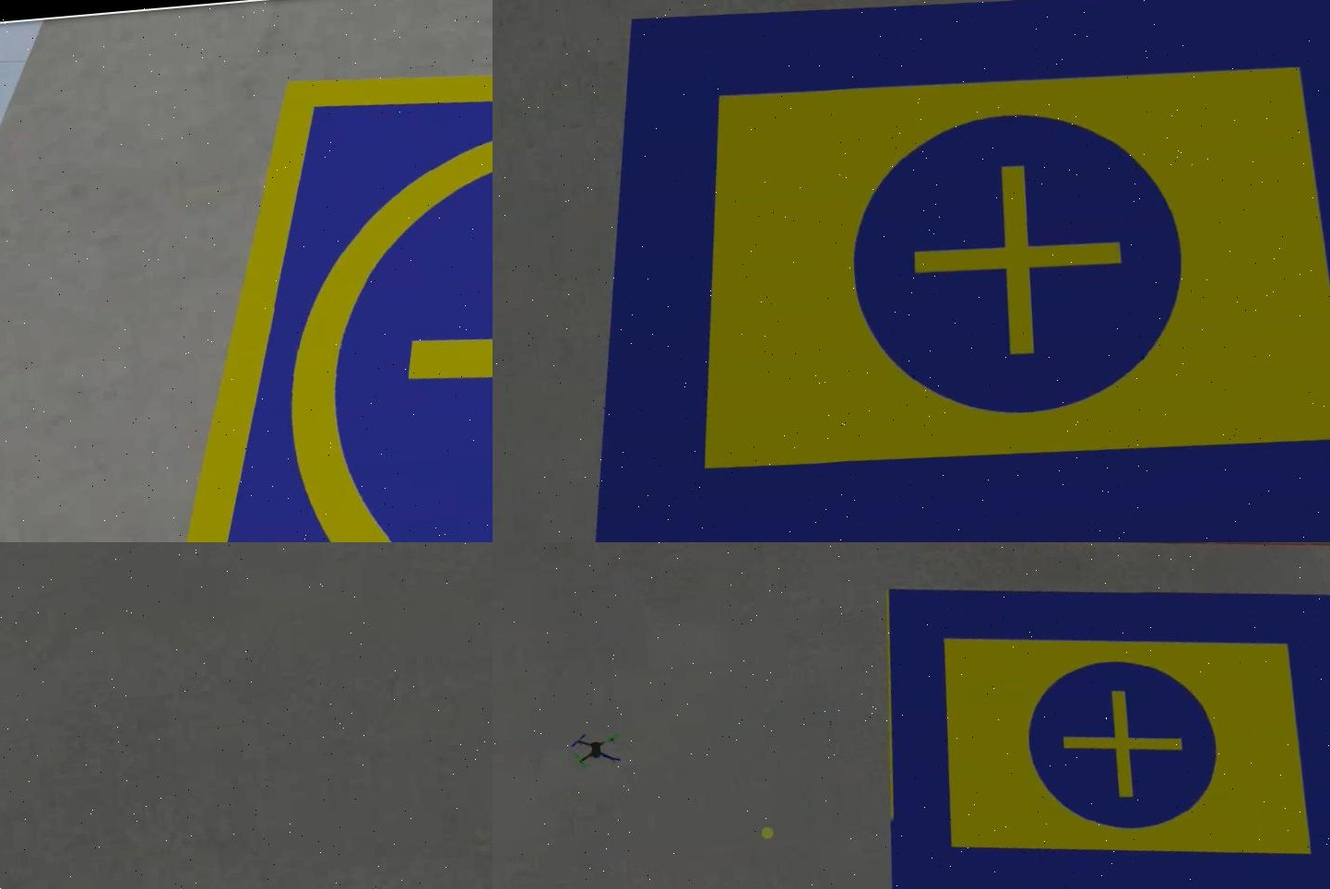large_base: (540, 1, 1328, 542), (863, 547, 1328, 889)
small_base: (69, 19, 491, 542)
